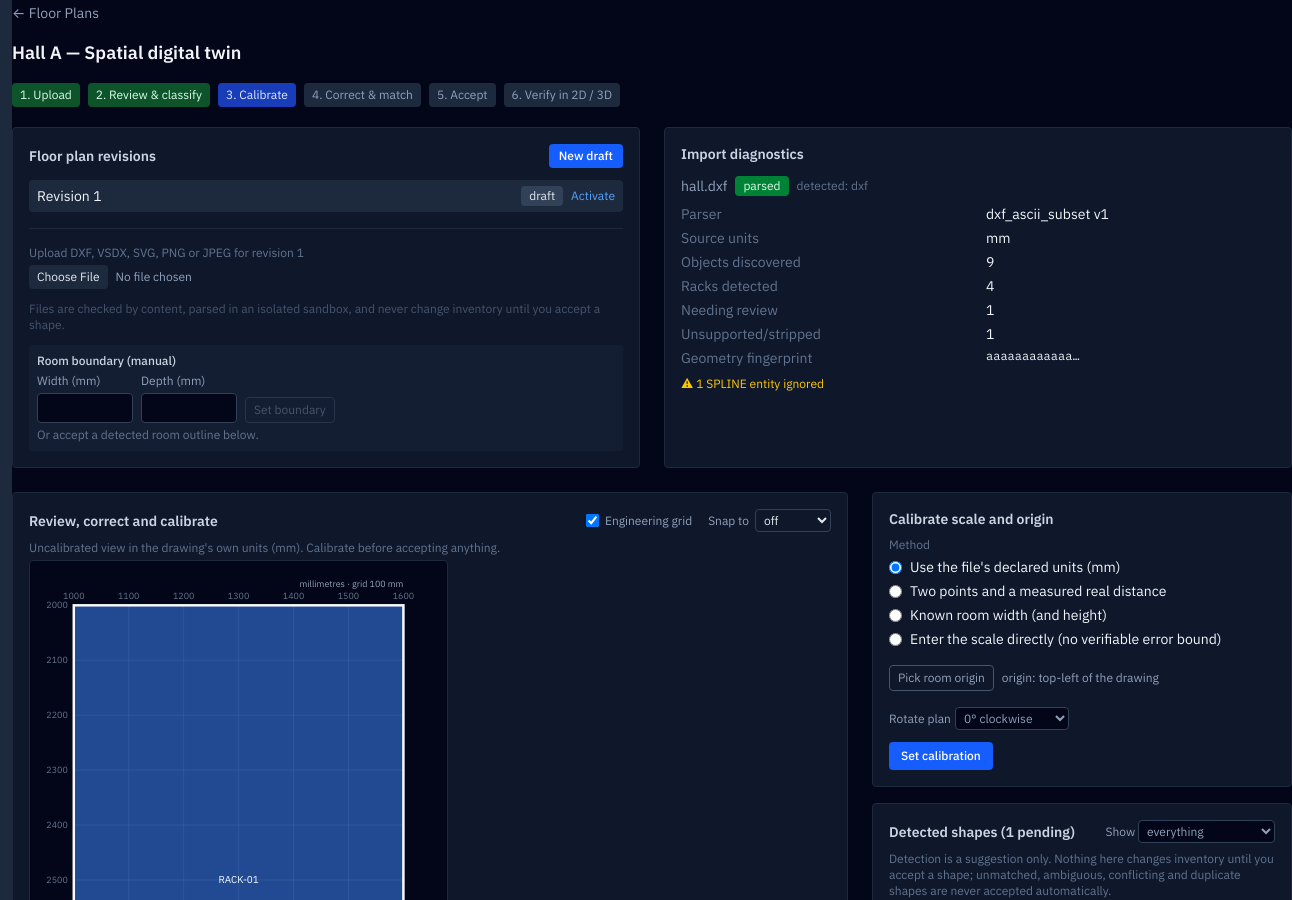
Test: RoomFloorPlanPage workflow › sets a rectangular room boundary from millimetre inputs
This screenshot has width=1292, height=900.
Type "6000" into the field named "Boundary width (mm)". click: (85, 408)
box: left=37, top=393, right=133, bottom=423
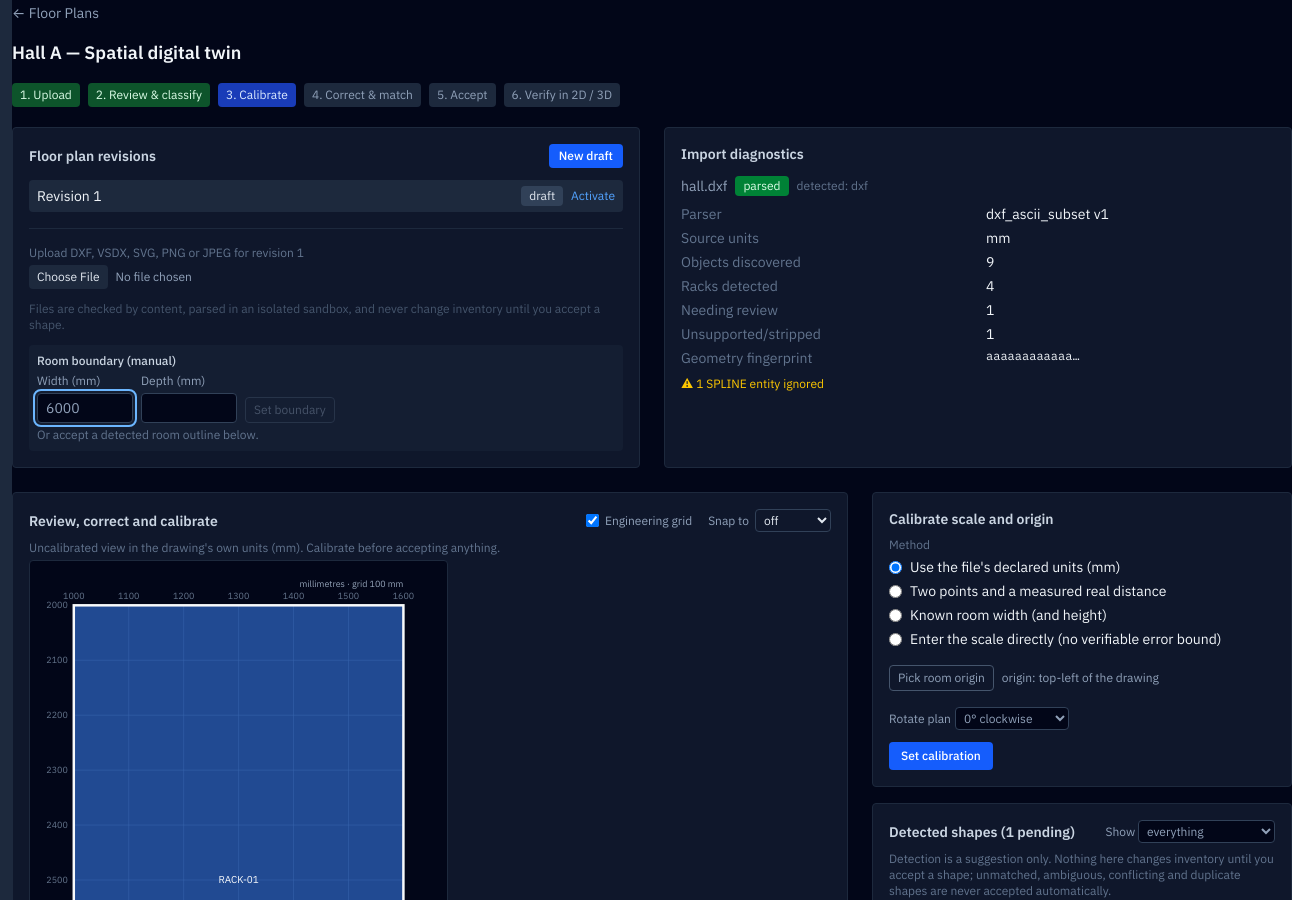
Type "4000" into the field named "Boundary depth (mm)". click: (189, 408)
box: left=141, top=393, right=237, bottom=423
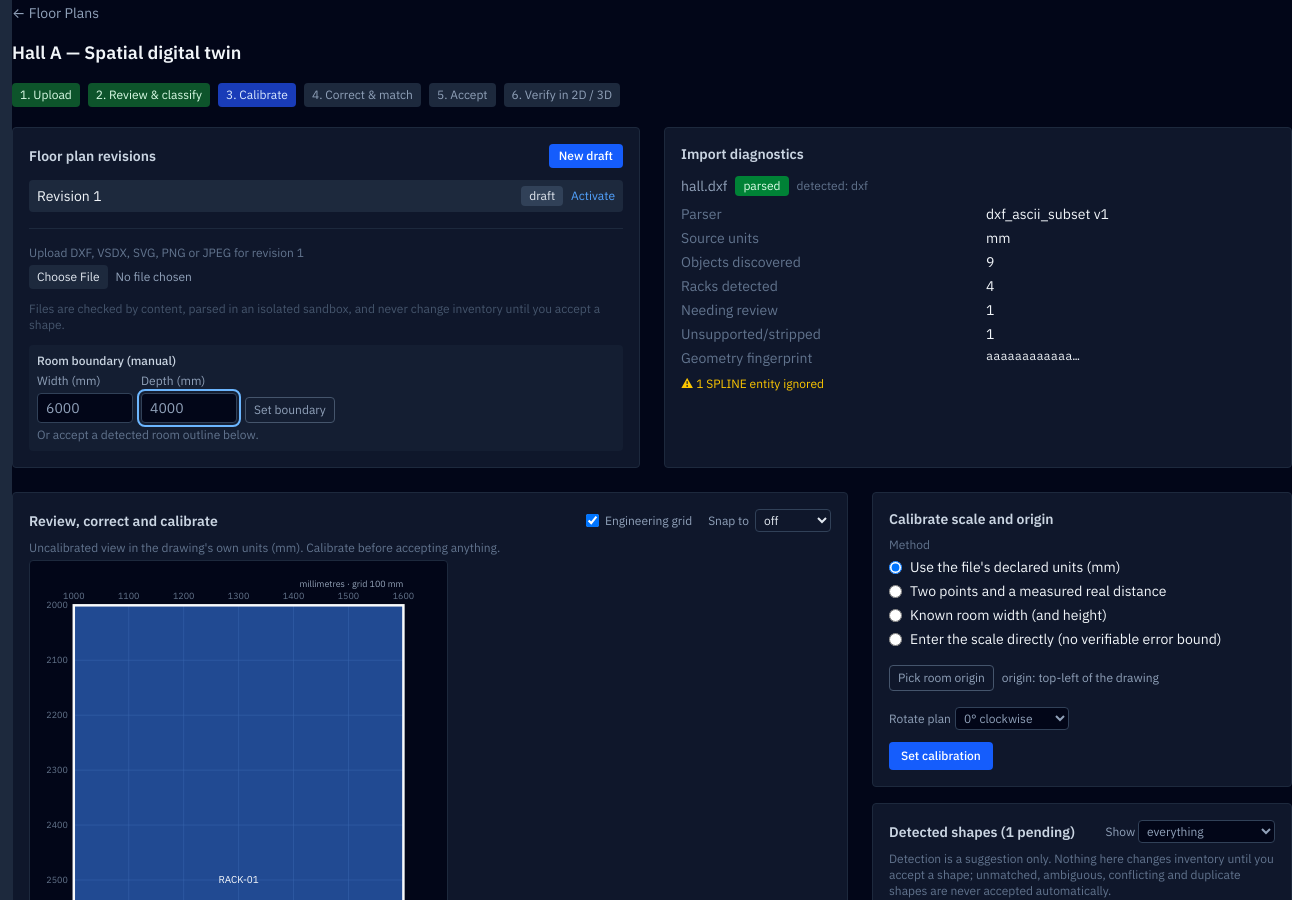
Click the button "Set boundary". click: (290, 410)
box: left=245, top=397, right=335, bottom=423
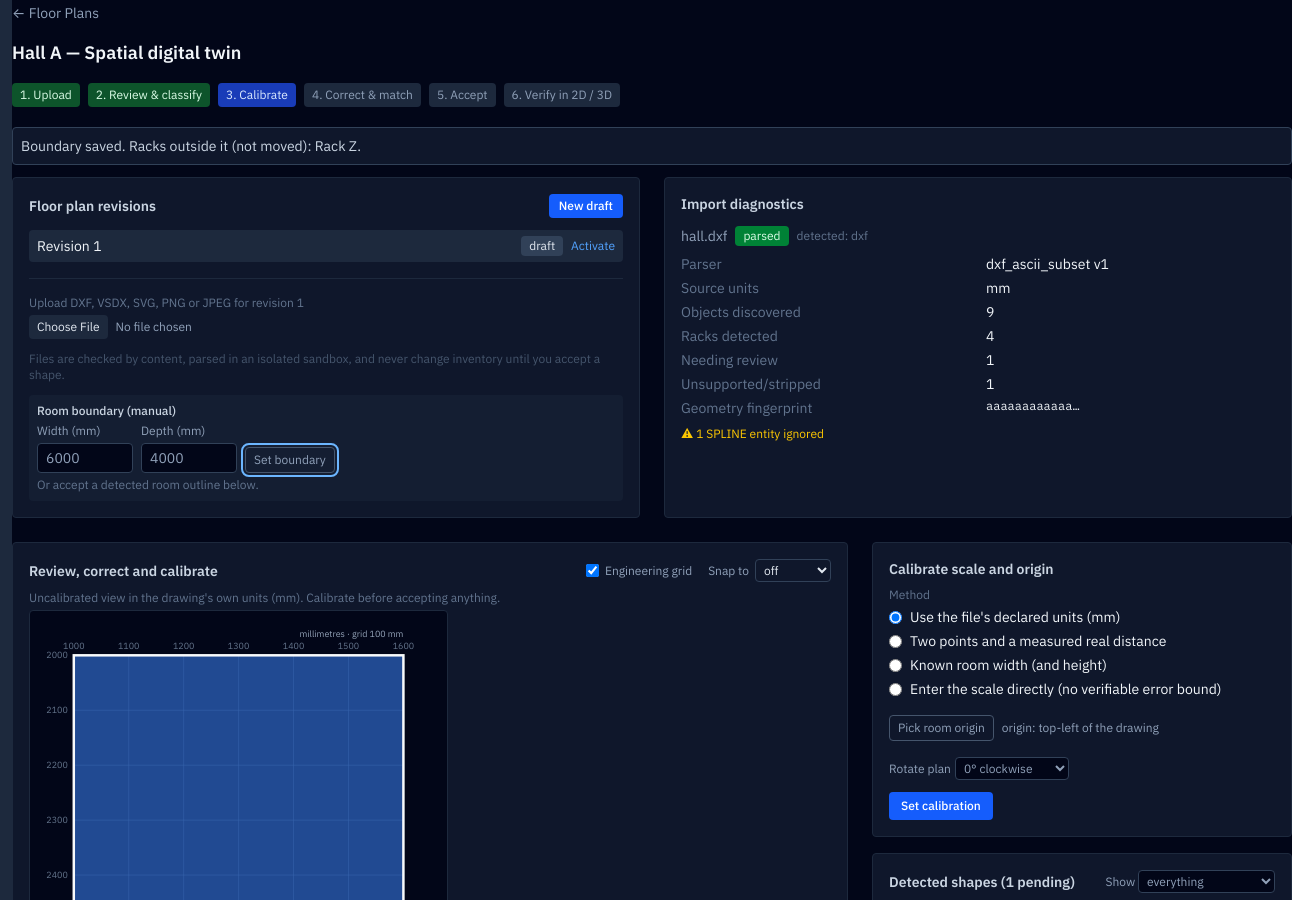
Check: the message with test id "notice" shows "Racks outside it (not moved): Rack Z", box left=21, top=137, right=361, bottom=155
